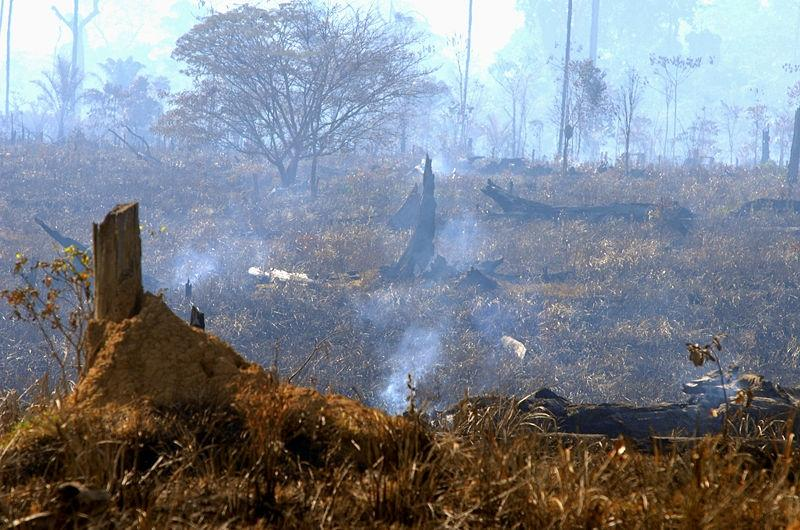Smoke: (370, 315, 449, 442), (420, 198, 497, 285), (154, 234, 230, 310)
